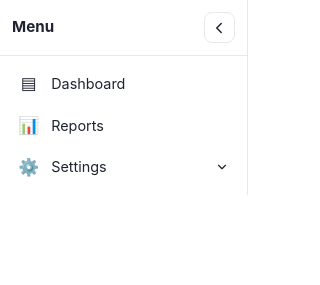
Test: Sidebar › toggles a nested group via its group button (aria-expanded)
Click the button "⚙️ Settings".
click(124, 167)  # box [8, 147, 239, 187]
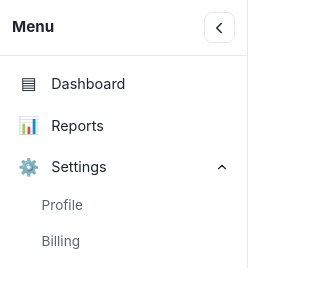
expect the button "⚙️ Settings" is expanded: met, box [8, 147, 239, 187]
expect the text "Profile" is shown: met, box [42, 195, 83, 216]
